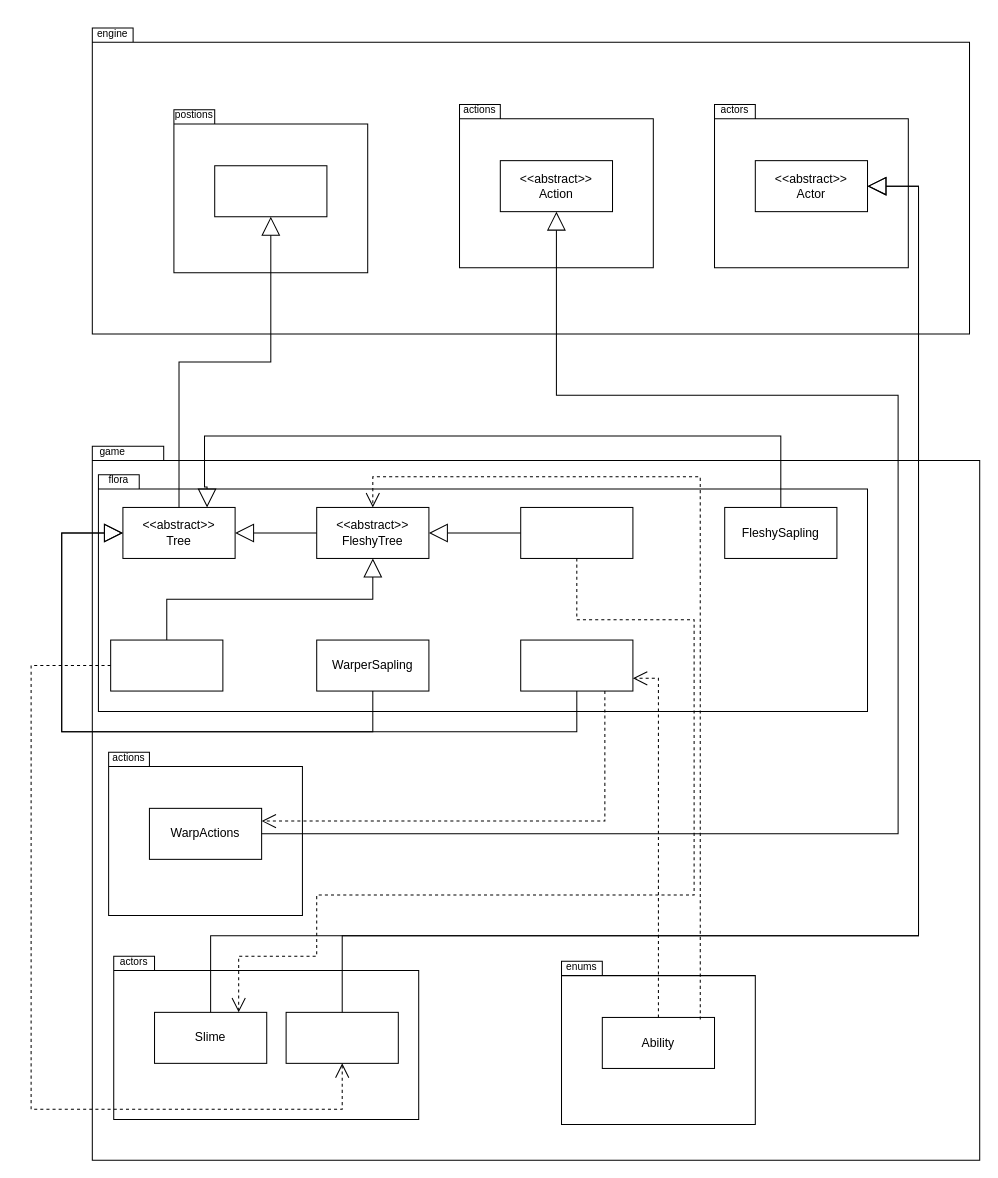
Image size: 998x1178. Some labels were removed from this diagram. Here are the shapes that lost their labels. From the top down, the centre of each, then its label:
At [270,191]: "<<abstract>> Ground".
At [576,532]: "FleshySprout".
At [166,665]: "FleshyMatureTree".
At [576,665]: "WarperMatureTree".
At [341,1037]: "Undead".
